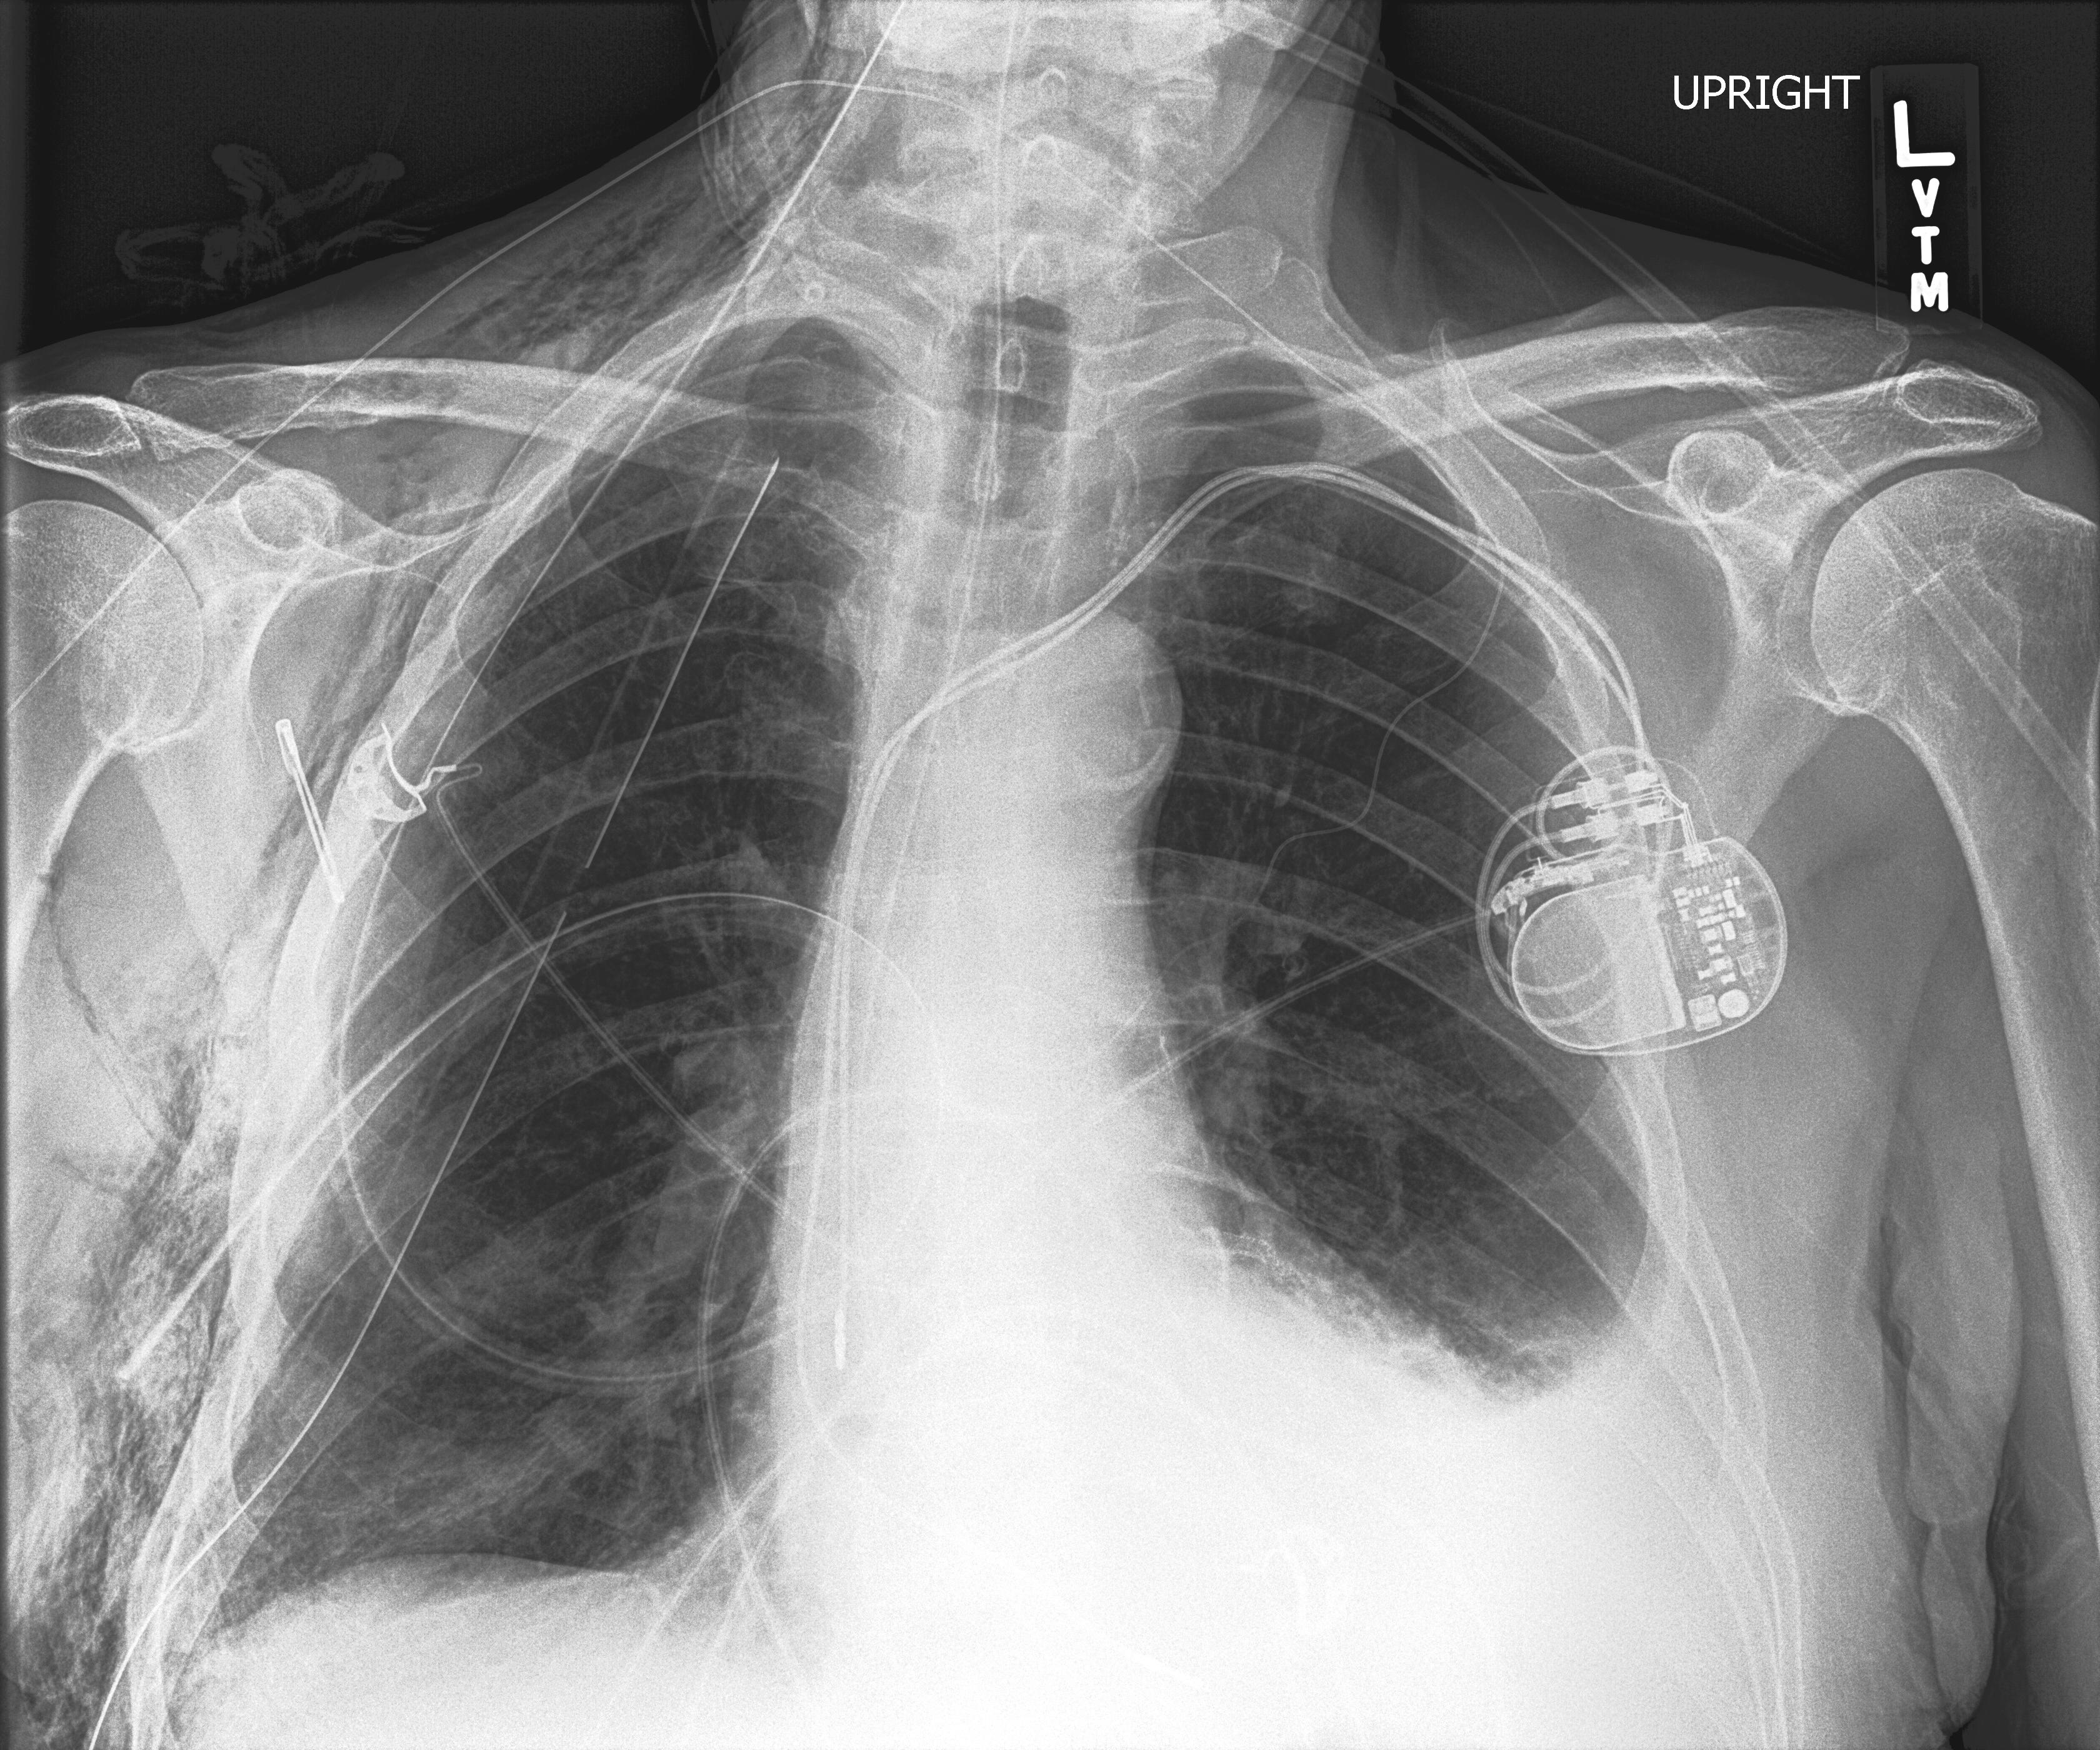Pleural Effusion: (1190, 1213, 1767, 1750)
